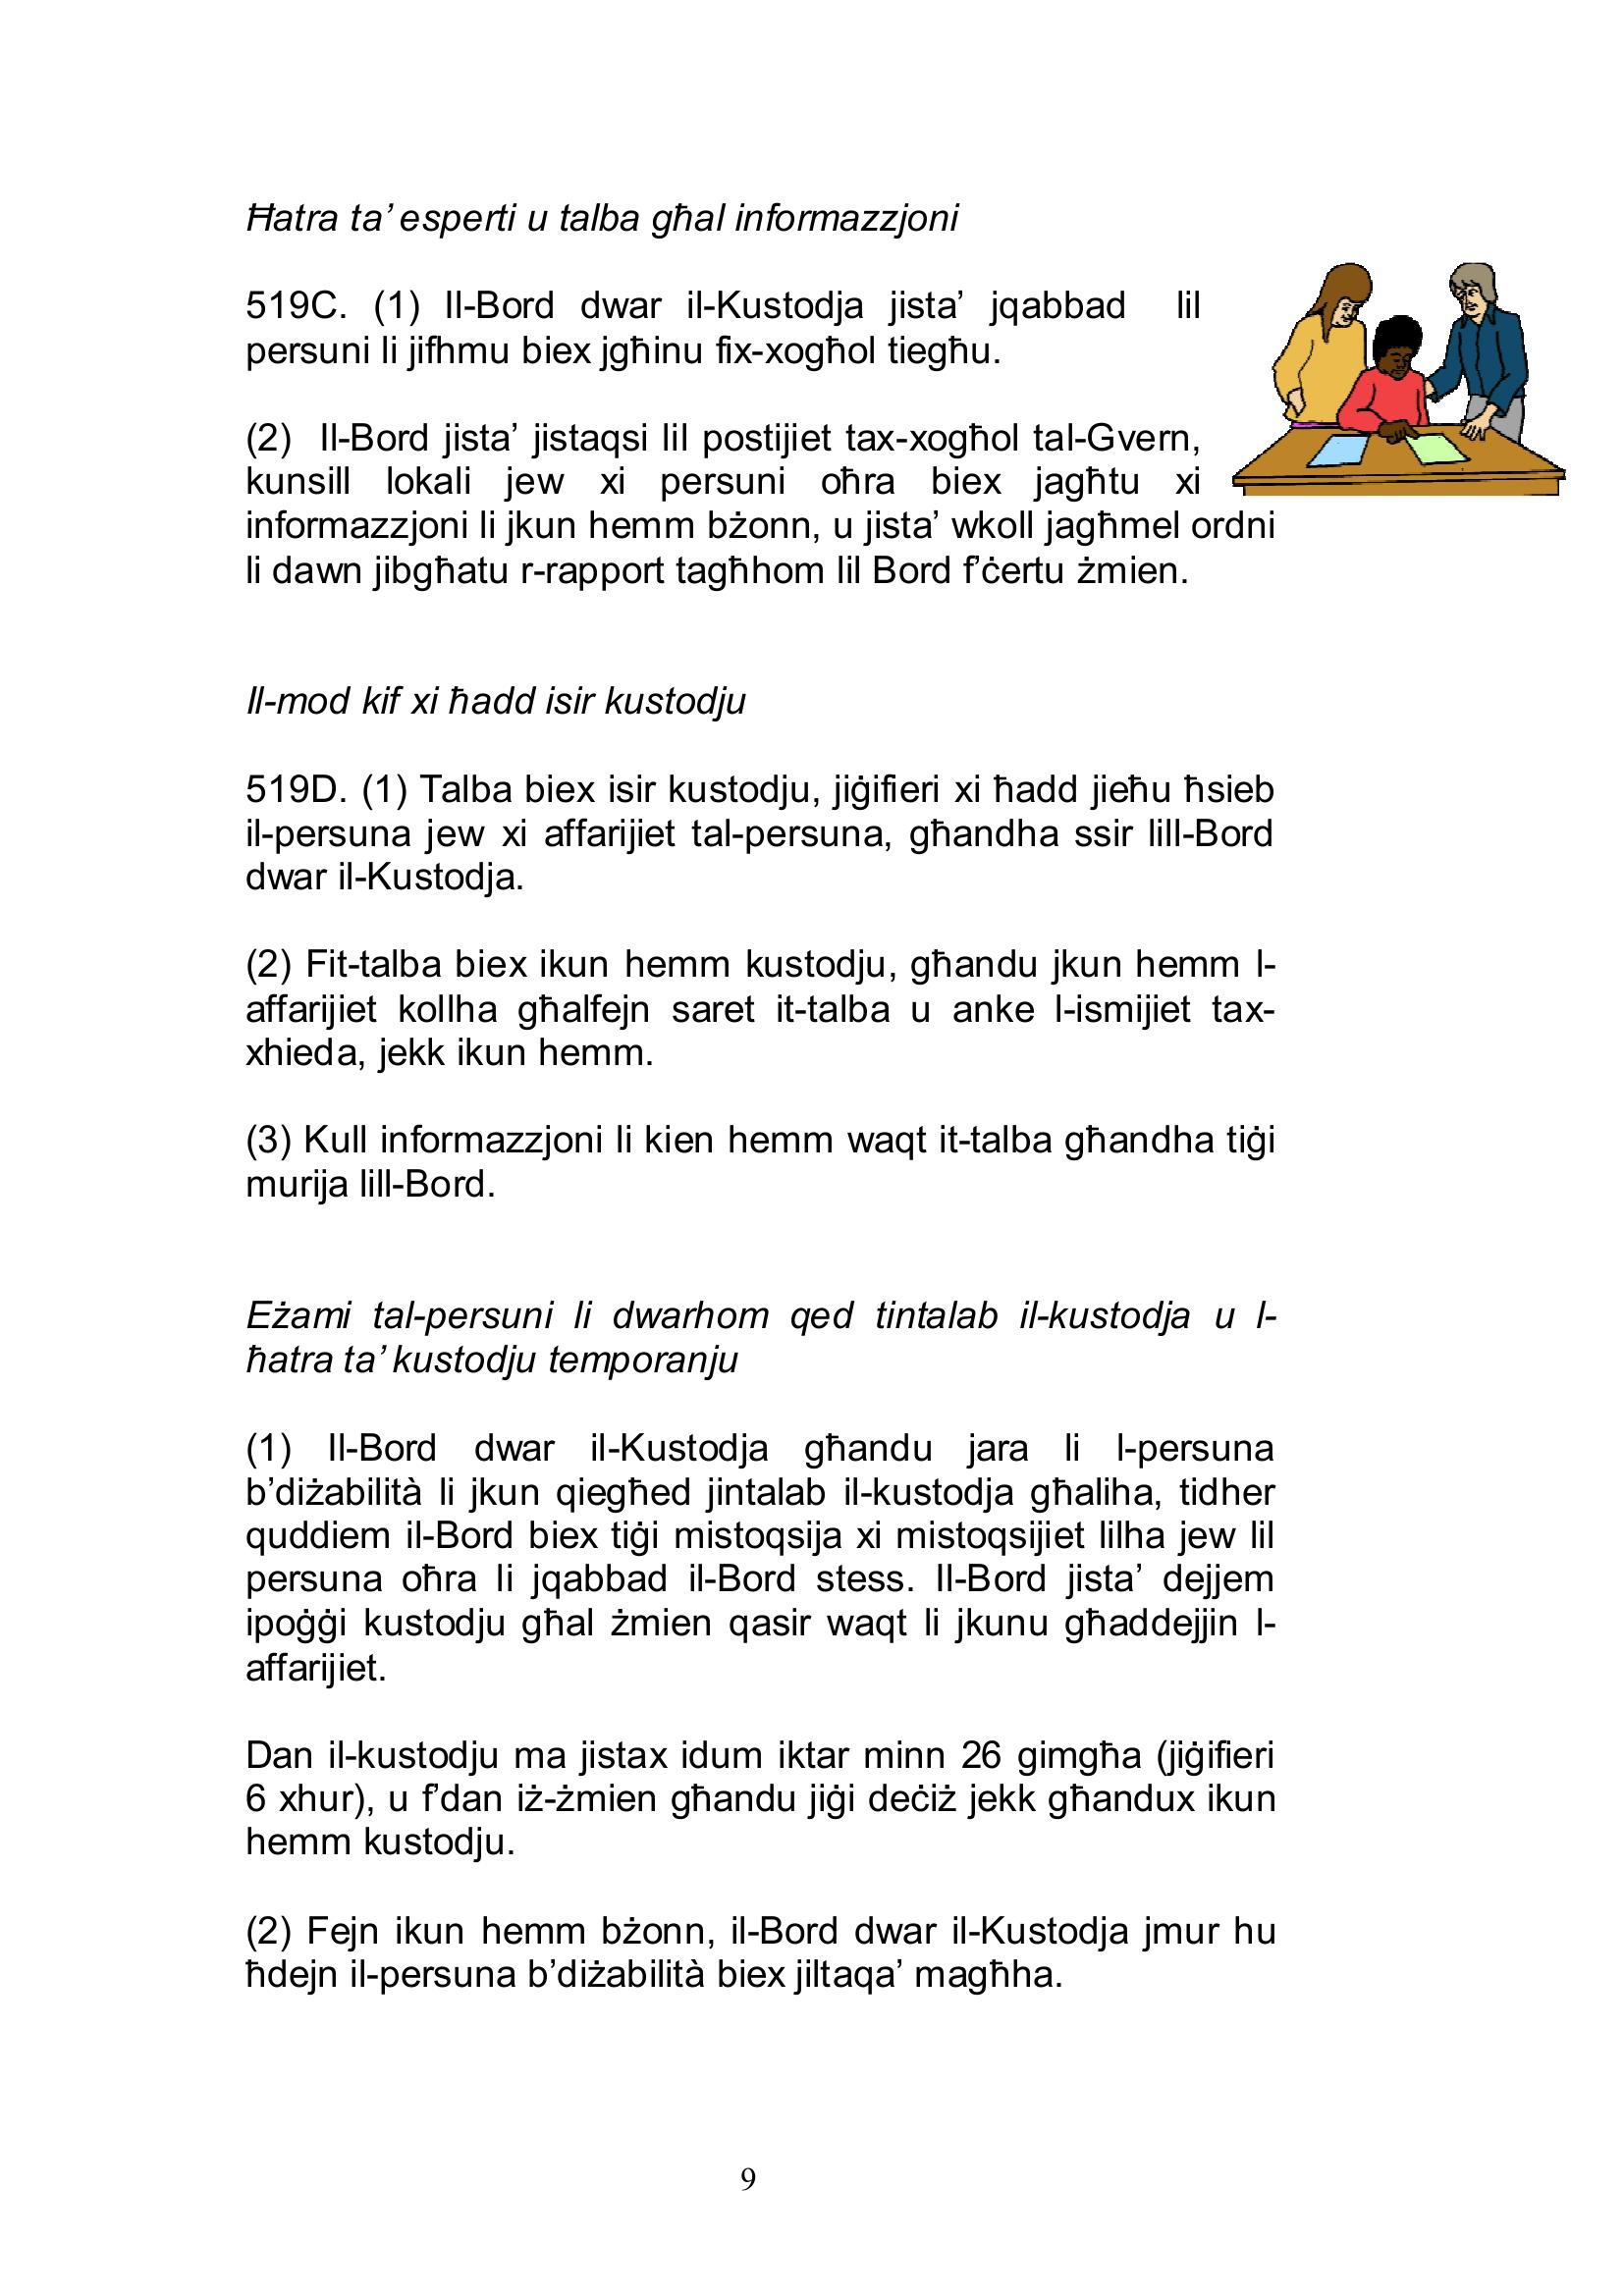text: (216, 181, 1304, 2022)
whiteout: (1223, 246, 1575, 506)
